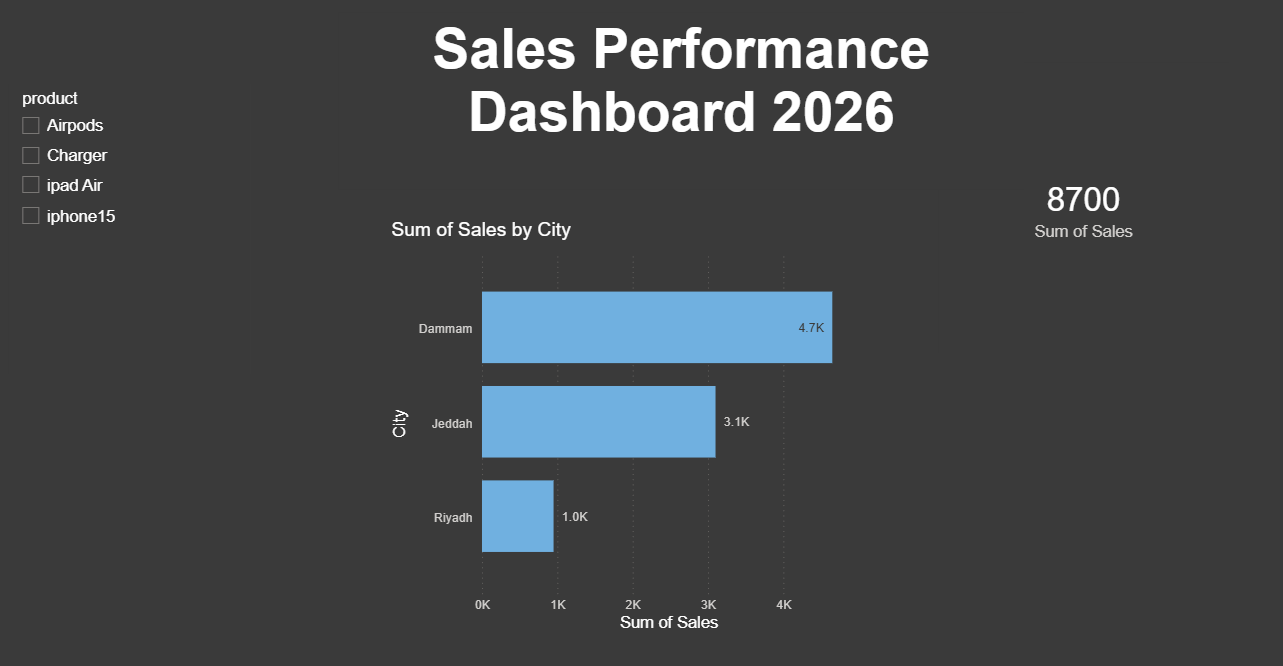

What the dashboard file says about the page in this screenshot:
{"tool":"powerbi","page":{"name":"Page 1","canvas":[1280,720],"ordinal":0},"visuals":[{"type":"clusteredBarChart","fields":{"Category":["Sheet1.City"],"Y":["Sum(Sheet1.Sales)"]},"box":[406.2,251.1,466.6,403.4],"z":0},{"type":"card","fields":{"Values":["Sum(Sheet1.Sales)"]},"box":[940,100.2,279.9,279.9],"z":1000},{"type":"slicer","fields":{"Values":["Sheet1.product"]},"box":[42.5,120.8,233.3,279.9],"z":2000},{"type":"textbox","box":[360.9,52.1,661.4,170.2],"z":3000}]}

Visuals, with their boxes on the page's 1280x720 design canvas (x1, y1, x2, y2). These are canvas units, not pixel positions in the 1283x666 screenshot, which may show the page scaled, cropped or inside an application window:
clusteredBarChart - Sheet1.City x Sum(Sheet1.Sales): bbox(406, 251, 873, 654)
card - Sum(Sheet1.Sales): bbox(940, 100, 1220, 380)
slicer - Sheet1.product: bbox(42, 121, 276, 401)
textbox: bbox(361, 52, 1022, 222)
